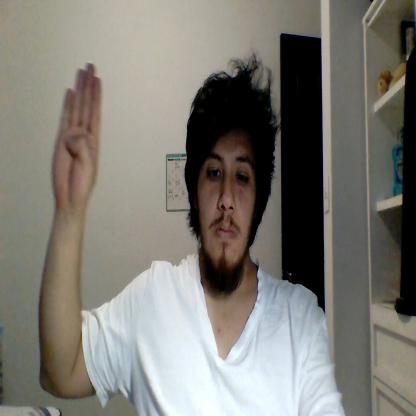B: (52, 62, 101, 206)
